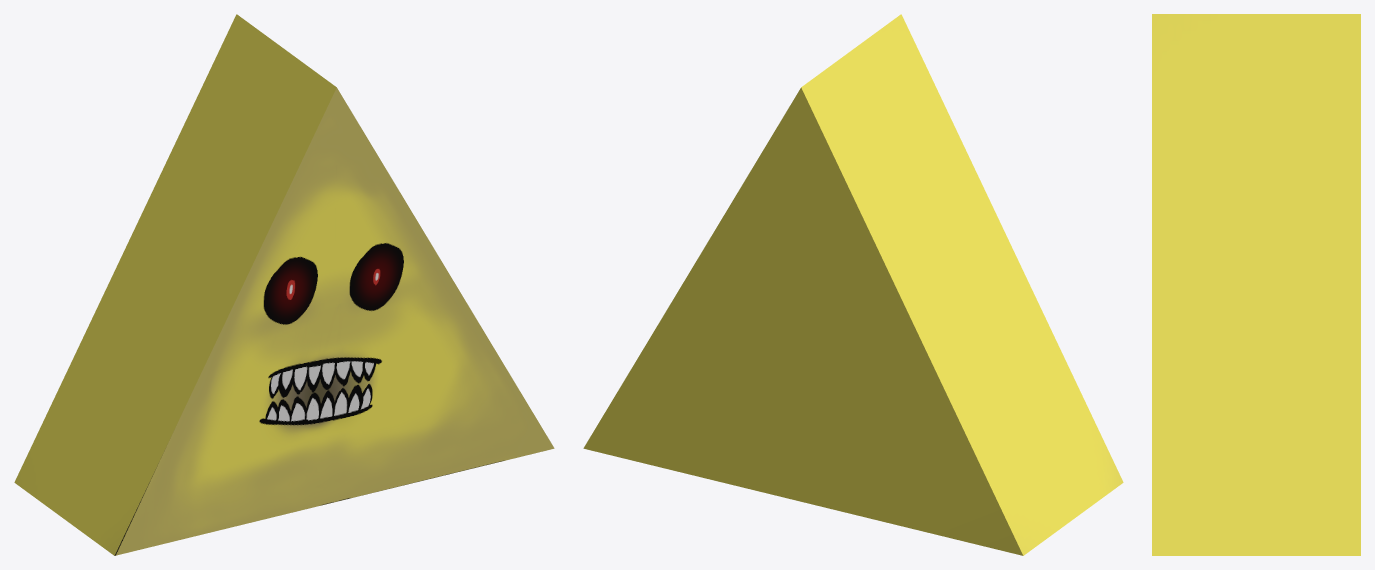
Rendered from triangulin.glb.
3 renders of one model, left to right at view 1: azimuth 30°, elevation 25°; view 2: azimuth 150°, elevation 25°; view 3: azimuth 270°, elevation 25°, orthographic. The views are drawn at different scales.
Parts seen in each view (by area): view 1: Cube; view 2: Cube; view 3: Cube.
Boxes of the visible parts, x1,y1,x2,y2 form: Cube: (14, 14, 554, 555); Cube: (583, 14, 1123, 555); Cube: (1152, 14, 1360, 555).
Size of the model in its own units: 2 by 1.8 by 0.7891.
Materials: 1 (1 with a texture image).
